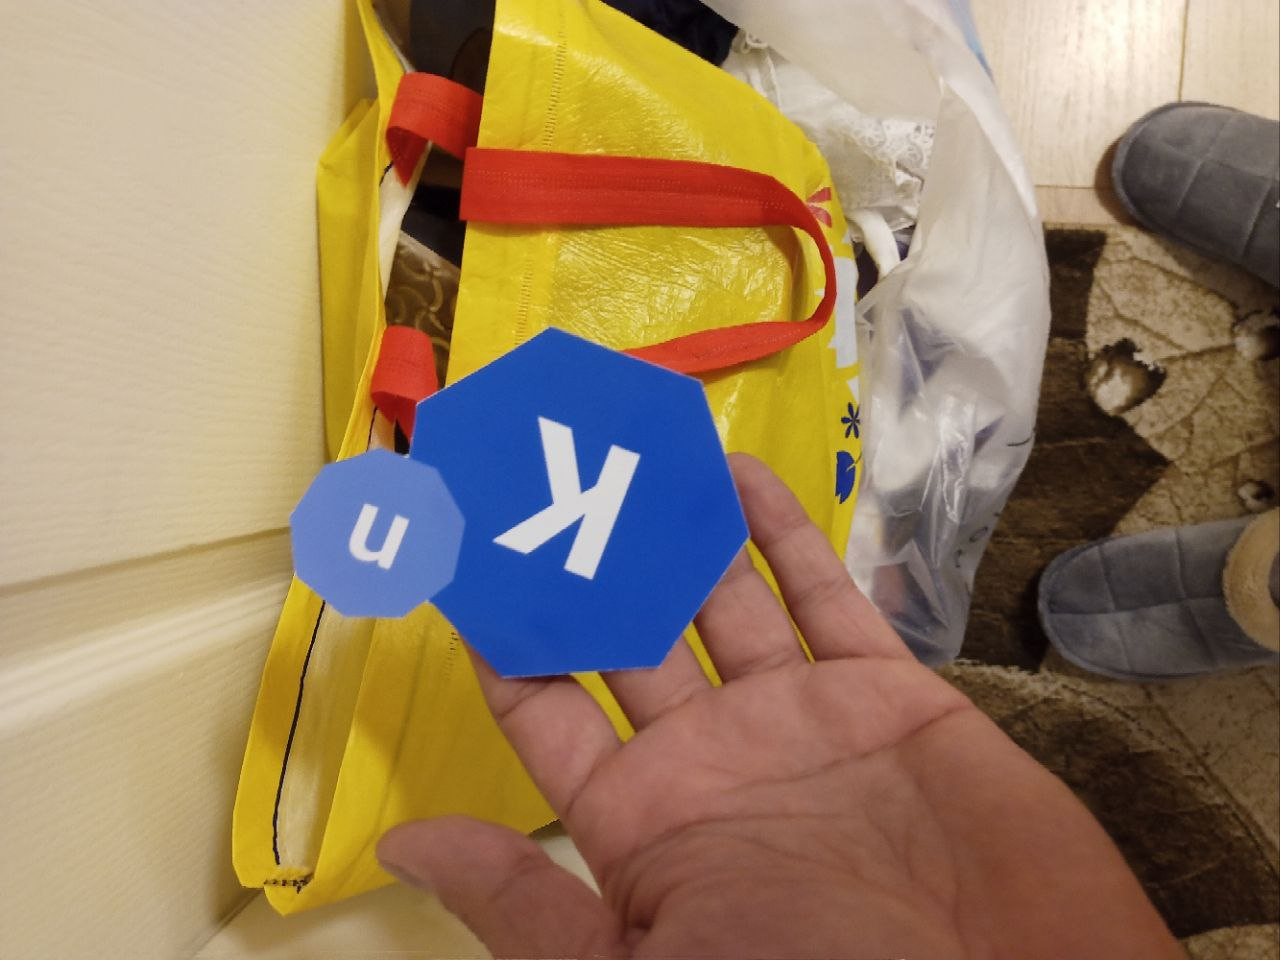knative: (288, 329, 749, 675)
